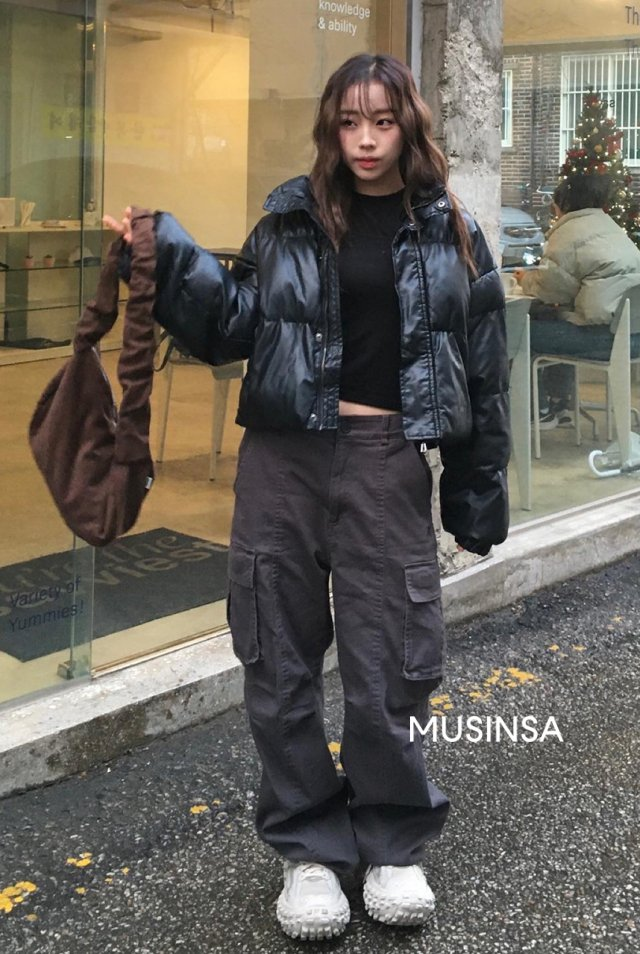Bag: (32, 201, 166, 548)
Bubble jacket: (226, 172, 506, 450)
Pants: (217, 414, 474, 870)
Shoes: (263, 855, 442, 946)
